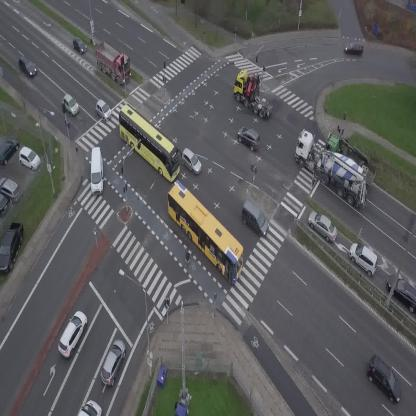bicycle: (182, 250, 193, 272)
bus: (152, 179, 257, 285), (106, 103, 192, 183)
car: (360, 354, 410, 405), (53, 308, 92, 359), (97, 337, 130, 388), (234, 199, 275, 239), (344, 239, 385, 278), (303, 207, 343, 244), (233, 122, 266, 153), (176, 146, 206, 177), (58, 93, 83, 117), (91, 98, 115, 122), (15, 53, 38, 78), (68, 34, 89, 57), (344, 41, 364, 56)
lorry: (282, 126, 384, 213), (321, 130, 383, 188), (225, 63, 286, 121), (86, 36, 140, 87), (91, 147, 103, 195), (78, 400, 102, 416)
